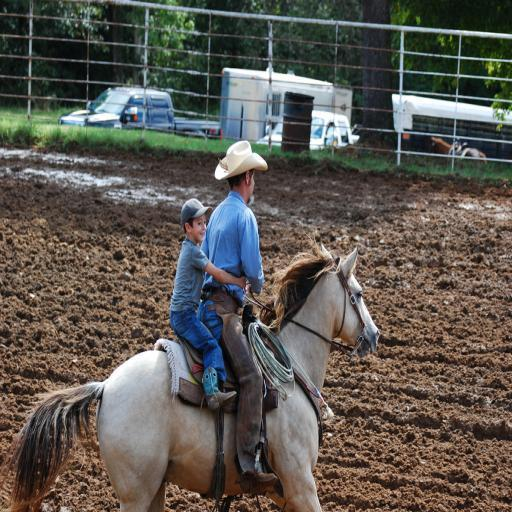horse: (0, 232, 382, 512)
